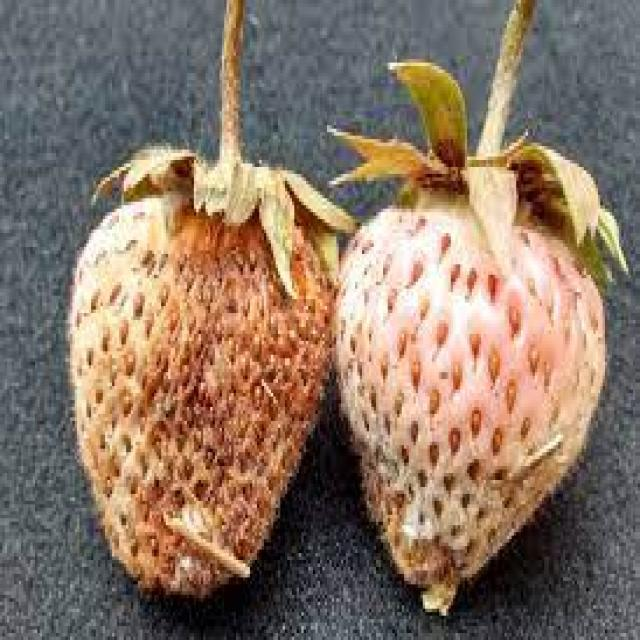Podredumbre de cuero: (52, 160, 336, 600), (342, 166, 610, 598)
